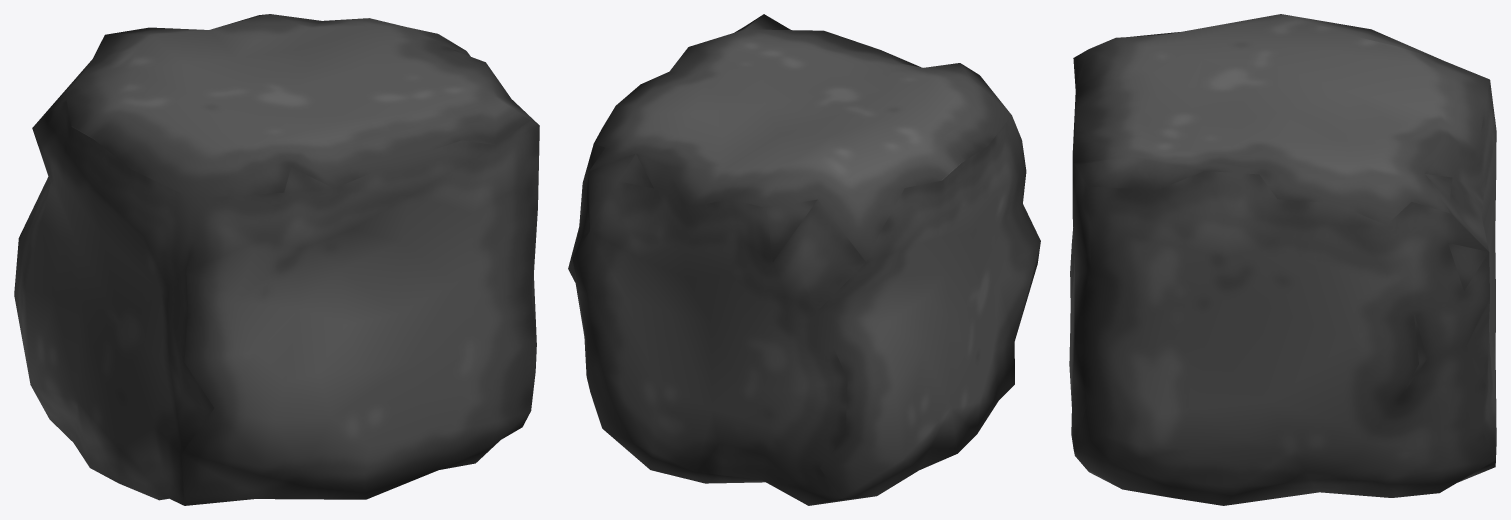
The model's file is blocks_isi.fbx.
The picture shows the model from 3 angles, left to right: view 1: azimuth 30°, elevation 25°; view 2: azimuth 150°, elevation 25°; view 3: azimuth 270°, elevation 25°; orthographic projection. The views are drawn at different scales.
Visible parts, largest first — view 1: isi; view 2: isi; view 3: isi.
Boxes of the visible parts, x1,y1,x2,y2 form: isi: [14, 14, 539, 505]; isi: [568, 14, 1040, 505]; isi: [1069, 14, 1496, 505].
Bounding box in the file's own units: 85.58 × 77.43 × 83.45.
